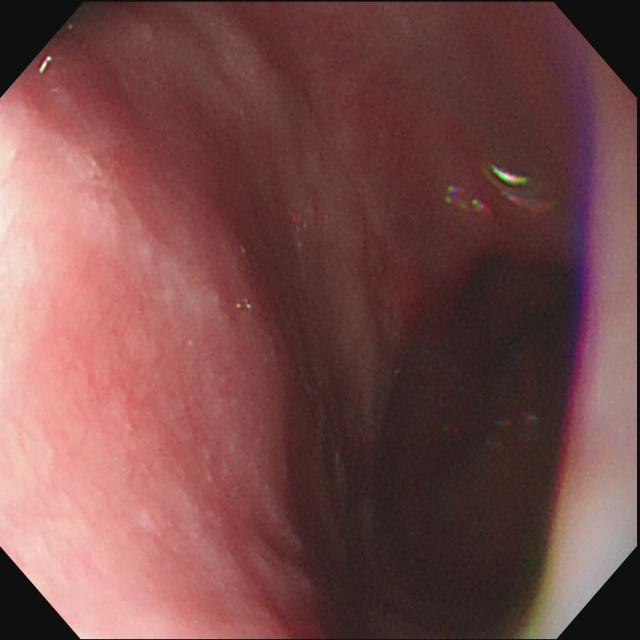U: (489, 165, 558, 217), (444, 187, 490, 214), (37, 55, 55, 76)
